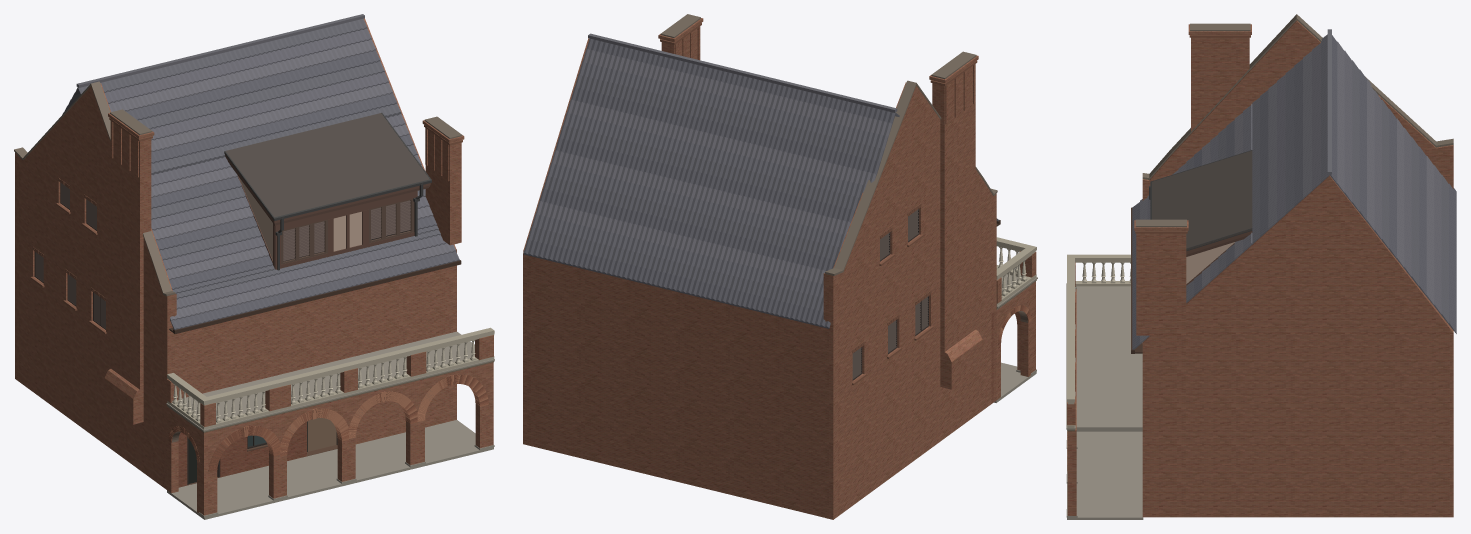
Rendered from jingan-jiaozhou-450-garden-residence-web.glb.
The picture shows the model from 3 angles, left to right: view 1: azimuth 30°, elevation 25°; view 2: azimuth 150°, elevation 25°; view 3: azimuth 270°, elevation 25°; orthographic projection. The views are drawn at different scales.
Parts seen in each view (by area): view 1: 胶州路450号花园住宅的砖山墙、拱廊和老虎窗; view 2: 胶州路450号花园住宅的砖山墙、拱廊和老虎窗; view 3: 胶州路450号花园住宅的砖山墙、拱廊和老虎窗.
Boxes of the visible parts, left/top/right/bottom form: 胶州路450号花园住宅的砖山墙、拱廊和老虎窗: left=14, top=14, right=494, bottom=519; 胶州路450号花园住宅的砖山墙、拱廊和老虎窗: left=523, top=14, right=1037, bottom=519; 胶州路450号花园住宅的砖山墙、拱廊和老虎窗: left=1066, top=14, right=1456, bottom=519.
Size of the model in its own units: 17.76 by 19.81 by 19.38.
Materials: 39 (2 with a texture image).
